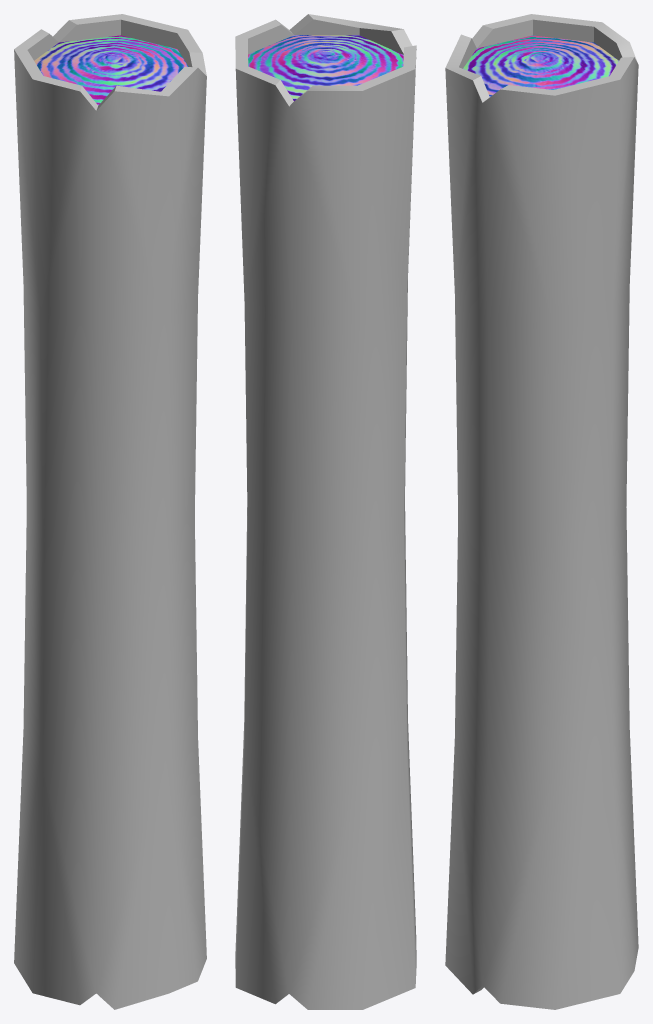
Rendered from sm_log_01.fbx.
3 views of the same model, side by side, from view 1: azimuth 30°, elevation 25°; view 2: azimuth 150°, elevation 25°; view 3: azimuth 270°, elevation 25° (orthographic).
Visible parts, largest first — view 1: sm_log_01; view 2: sm_log_01; view 3: sm_log_01.
Part boxes in pixels (<box>): sm_log_01: <box>14,14,206,1009</box>; sm_log_01: <box>235,14,416,1009</box>; sm_log_01: <box>445,14,638,1009</box>.
Bounding box in the file's own units: 76 × 399 × 75.97.
